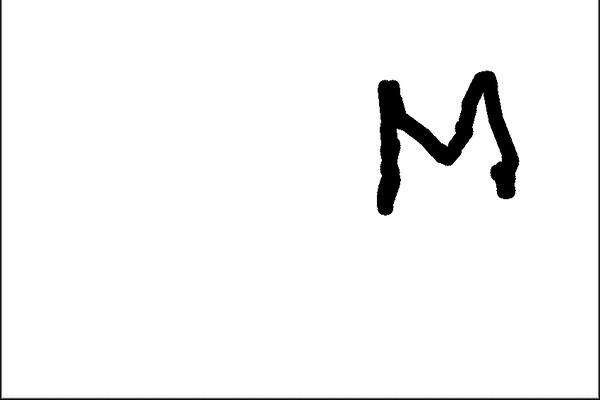M: (372, 65, 518, 216)
